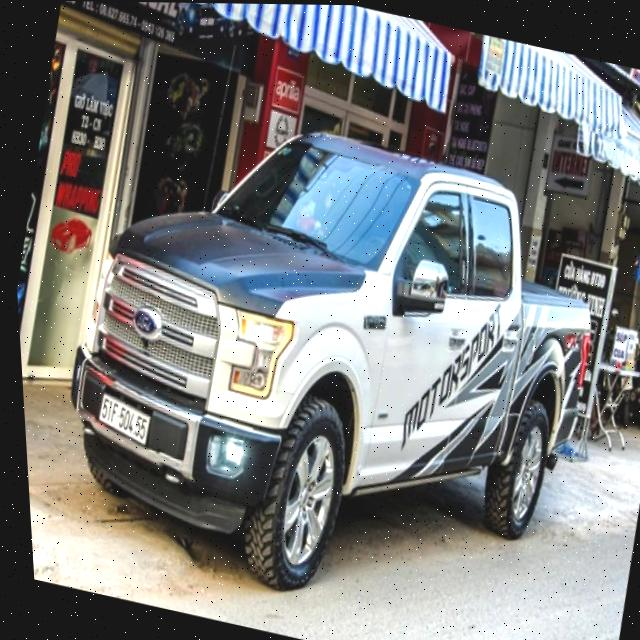car: (10, 86, 633, 640)
plate: (89, 389, 160, 449)
